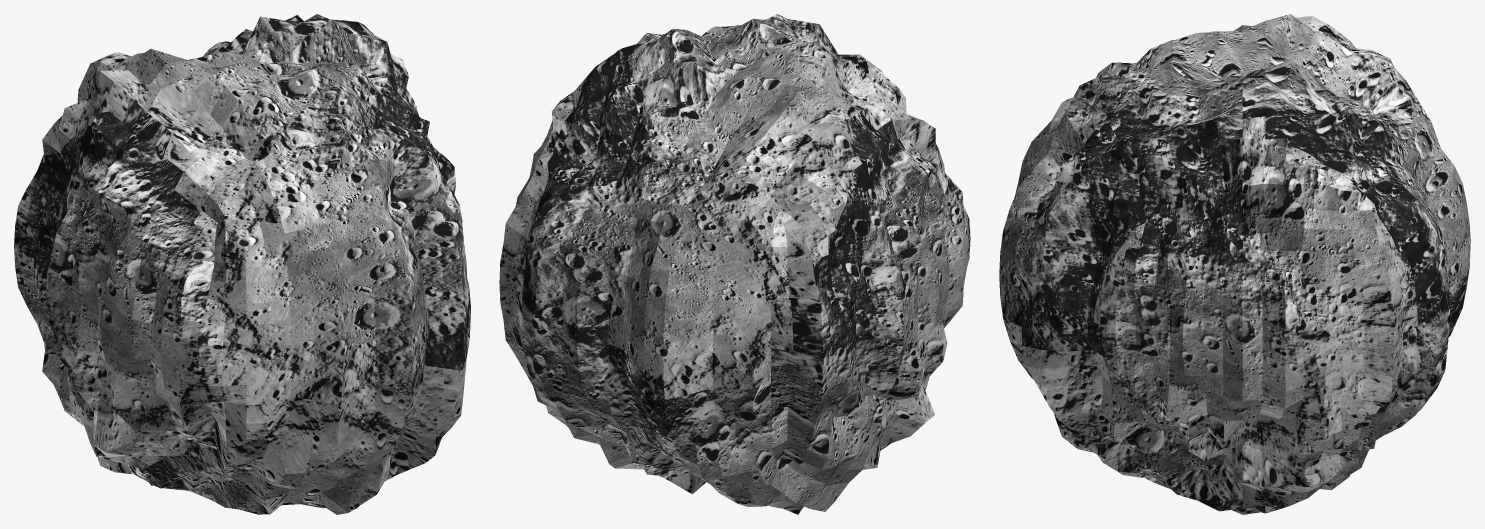
File: asteroid173.obj
3 views of the same model, side by side, from view 1: azimuth 30°, elevation 25°; view 2: azimuth 150°, elevation 25°; view 3: azimuth 270°, elevation 25° (orthographic). The views are drawn at different scales.
Parts seen in each view (by area): view 1: Cube_Cube.002; view 2: Cube_Cube.002; view 3: Cube_Cube.002.
Boxes of the visible parts, x1,y1,x2,y2 form: Cube_Cube.002: (14,14,470,514); Cube_Cube.002: (499,14,970,514); Cube_Cube.002: (999,14,1470,514).
Bounding box in the file's own units: 1.64 × 1.86 × 1.82.
